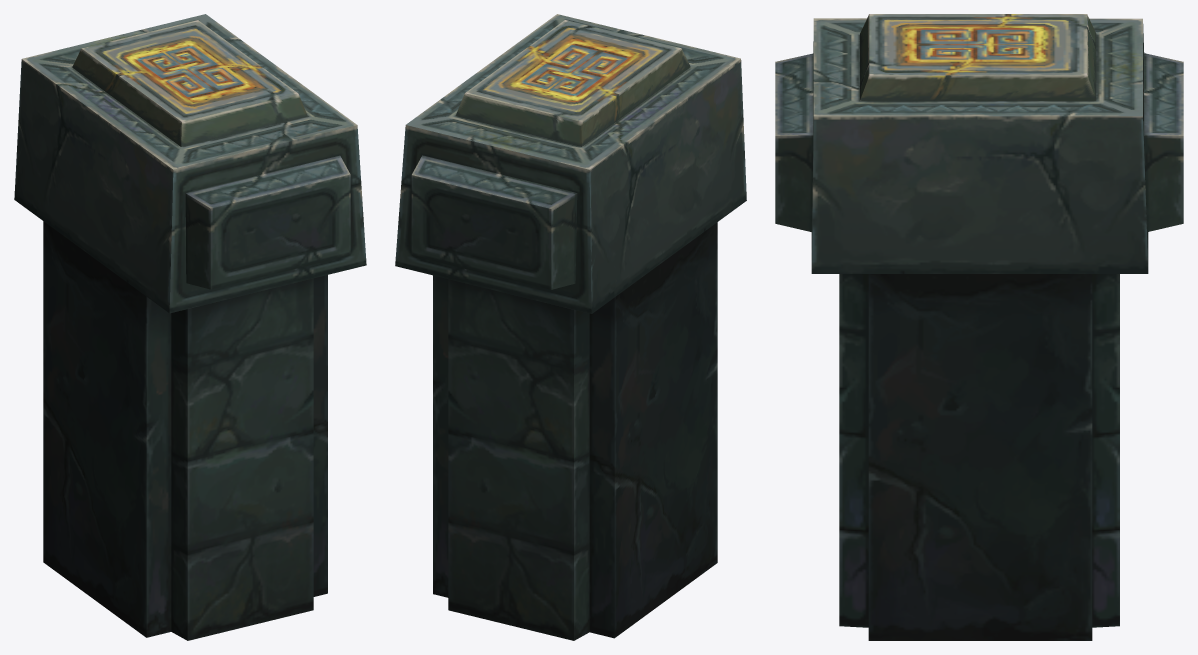
Rendered from fb_qingqs_zj_18_b.FBX.
3 views of the same model, side by side, from view 1: azimuth 30°, elevation 25°; view 2: azimuth 150°, elevation 25°; view 3: azimuth 270°, elevation 25° (orthographic). The views are drawn at different scales.
Visible parts, largest first — view 1: fb_qingqs_zj_18_b; view 2: fb_qingqs_zj_18_b; view 3: fb_qingqs_zj_18_b.
Part boxes in pixels (left/top/right/bottom): fb_qingqs_zj_18_b: left=14, top=14, right=366, bottom=640; fb_qingqs_zj_18_b: left=395, top=14, right=746, bottom=640; fb_qingqs_zj_18_b: left=775, top=14, right=1183, bottom=640.
Size of the model in its own units: 254 by 624 by 420.
